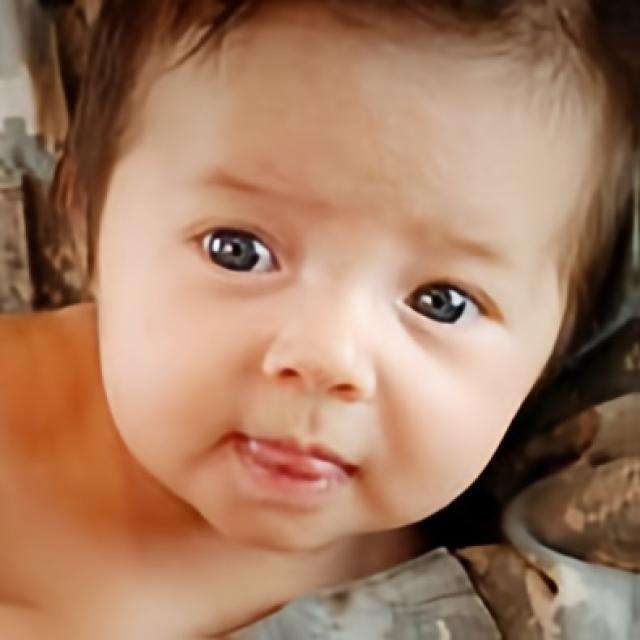fear: (93, 0, 608, 551)
